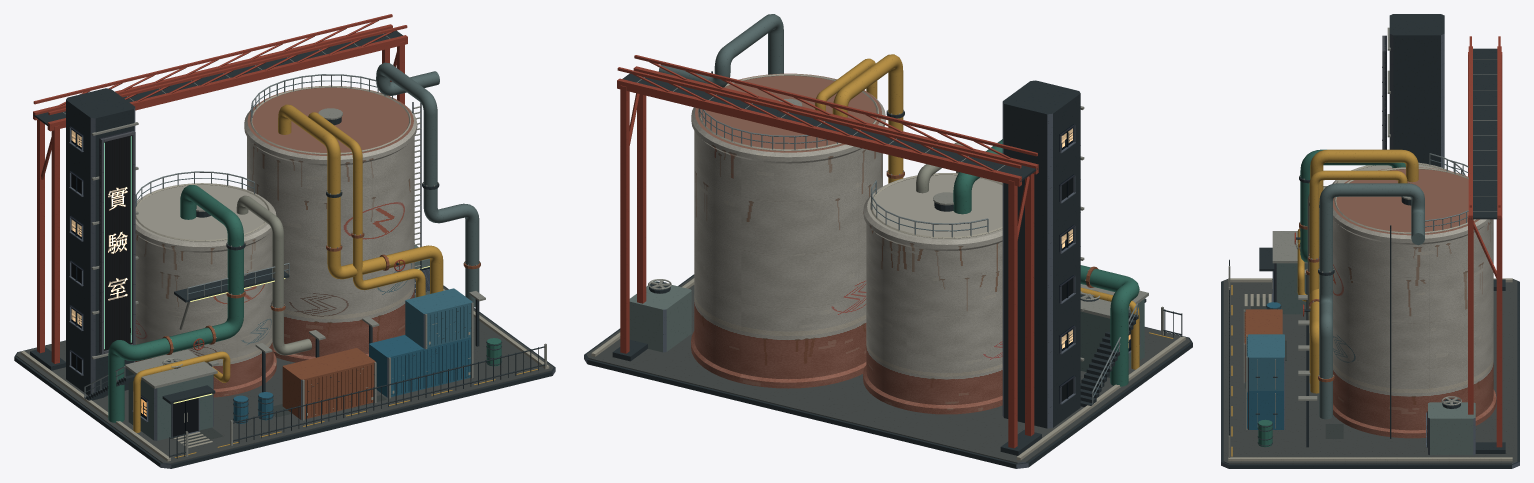
The model's file is lab.glb.
3 renders of one model, left to right at view 1: azimuth 30°, elevation 25°; view 2: azimuth 150°, elevation 25°; view 3: azimuth 270°, elevation 25°, orthographic. The views are drawn at different scales.
Parts seen in each view (by area): view 1: concrete_tank_b, large_colored_pipe_network, utility_spine_and_entry, concrete_tank_a, containers_and_service_yard, red_gantry_and_catwalks, industrial_apron, vertical_led, tank_rims_and_access; view 2: concrete_tank_b, concrete_tank_a, utility_spine_and_entry, red_gantry_and_catwalks, industrial_apron, large_colored_pipe_network, containers_and_service_yard, tank_rims_and_access; view 3: concrete_tank_b, industrial_apron, large_colored_pipe_network, utility_spine_and_entry, red_gantry_and_catwalks, containers_and_service_yard, tank_rims_and_access, vertical_led.
Part boxes in pixels (bbox=[...]): concrete_tank_b: bbox=[244, 85, 417, 362]; large_colored_pipe_network: bbox=[108, 62, 485, 432]; utility_spine_and_entry: bbox=[66, 88, 217, 440]; concrete_tank_a: bbox=[135, 183, 276, 397]; containers_and_service_yard: bbox=[169, 245, 546, 458]; red_gantry_and_catwalks: bbox=[30, 14, 407, 370]; industrial_apron: bbox=[14, 285, 555, 468]; vertical_led: bbox=[99, 130, 135, 354]; tank_rims_and_access: bbox=[135, 74, 421, 294]; concrete_tank_b: bbox=[691, 73, 885, 388]; concrete_tank_a: bbox=[863, 173, 1002, 414]; utility_spine_and_entry: bbox=[1002, 80, 1148, 428]; red_gantry_and_catwalks: bbox=[612, 55, 1041, 455]; industrial_apron: bbox=[584, 274, 1192, 468]; large_colored_pipe_network: bbox=[658, 14, 1139, 386]; containers_and_service_yard: bbox=[629, 281, 1182, 352]; tank_rims_and_access: bbox=[698, 71, 1002, 238]; concrete_tank_b: bbox=[1333, 167, 1496, 438]; industrial_apron: bbox=[1221, 278, 1519, 468]; large_colored_pipe_network: bbox=[1294, 149, 1424, 447]; utility_spine_and_entry: bbox=[1259, 14, 1444, 314]; red_gantry_and_catwalks: bbox=[1468, 36, 1505, 453]; containers_and_service_yard: bbox=[1228, 259, 1475, 457]; tank_rims_and_access: bbox=[1334, 153, 1476, 438]; vertical_led: bbox=[1382, 35, 1386, 149].
Bounding box in the file's own units: 37 × 25.42 × 25.
Materials: 6 (5 with a texture image).
